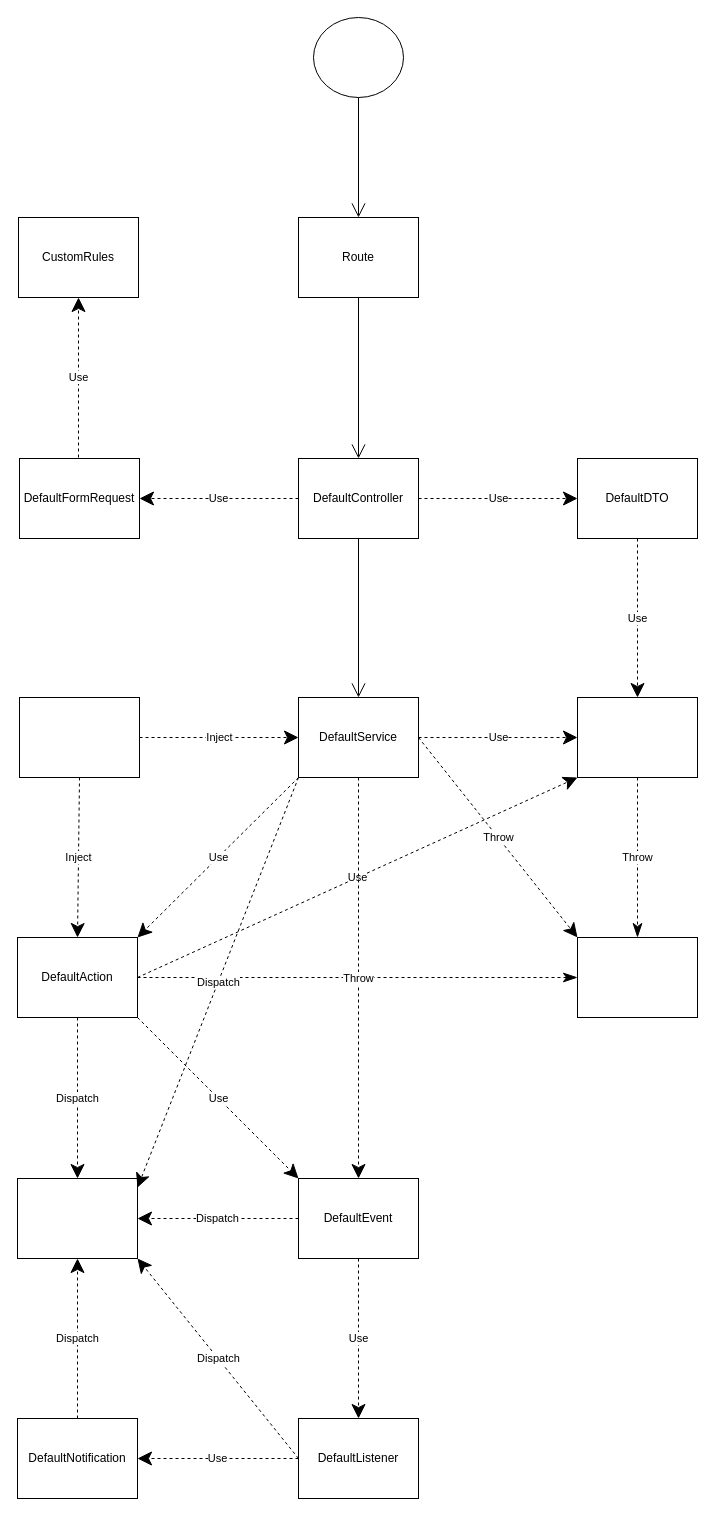
This 715x1516 diagram has some shape labels left out. Each missing label, with the box of its shape:
Client: (312, 16, 404, 98)
CustomExceptions: (576, 936, 698, 1018)
CustomHelpers: (576, 696, 698, 778)
DefaultJob: (16, 1178, 138, 1258)
DefaultModel: (18, 696, 140, 778)
